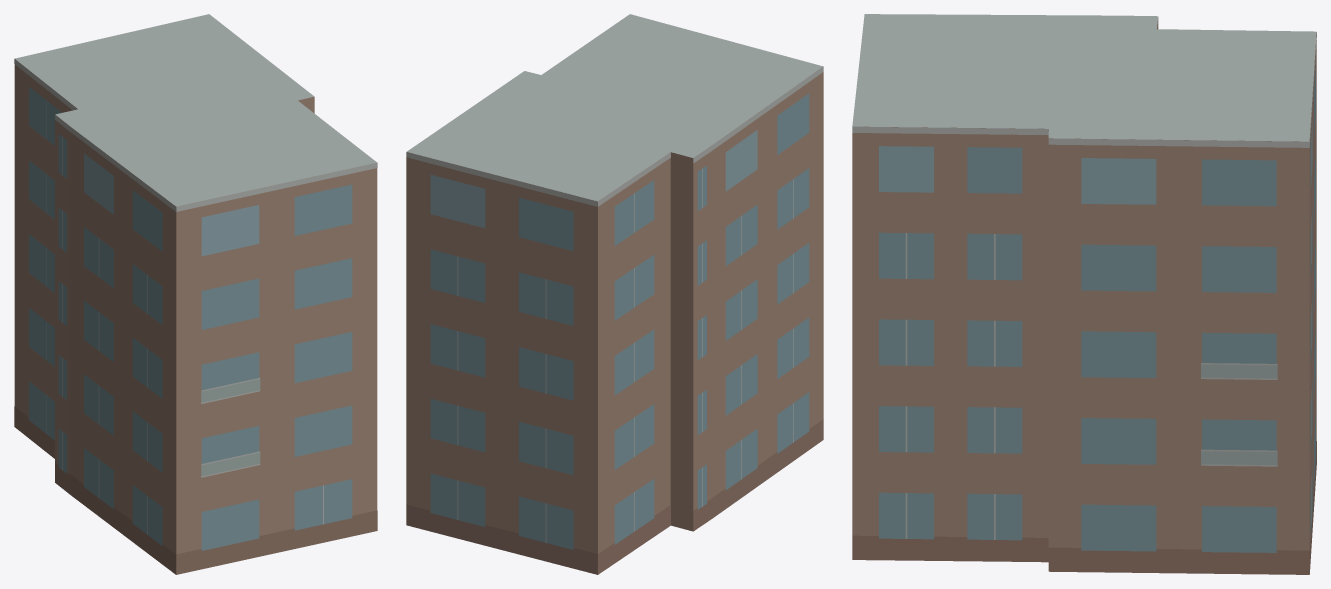
The model's file is survey-upis-32553807.glb.
The picture shows the model from 3 angles, left to right: view 1: azimuth 30°, elevation 25°; view 2: azimuth 150°, elevation 25°; view 3: azimuth 270°, elevation 25°; orthographic projection. The views are drawn at different scales.
Parts seen in each view (by area): view 1: survey-upis-32553807.tmp; view 2: survey-upis-32553807.tmp; view 3: survey-upis-32553807.tmp.
Part boxes in pixels (x1=…): survey-upis-32553807.tmp: x1=14, y1=14, x2=377, y2=574; survey-upis-32553807.tmp: x1=406, y1=14, x2=823, y2=574; survey-upis-32553807.tmp: x1=852, y1=14, x2=1316, y2=574.
Bounding box in the file's own units: 10.56 × 16.7 × 16.23.
